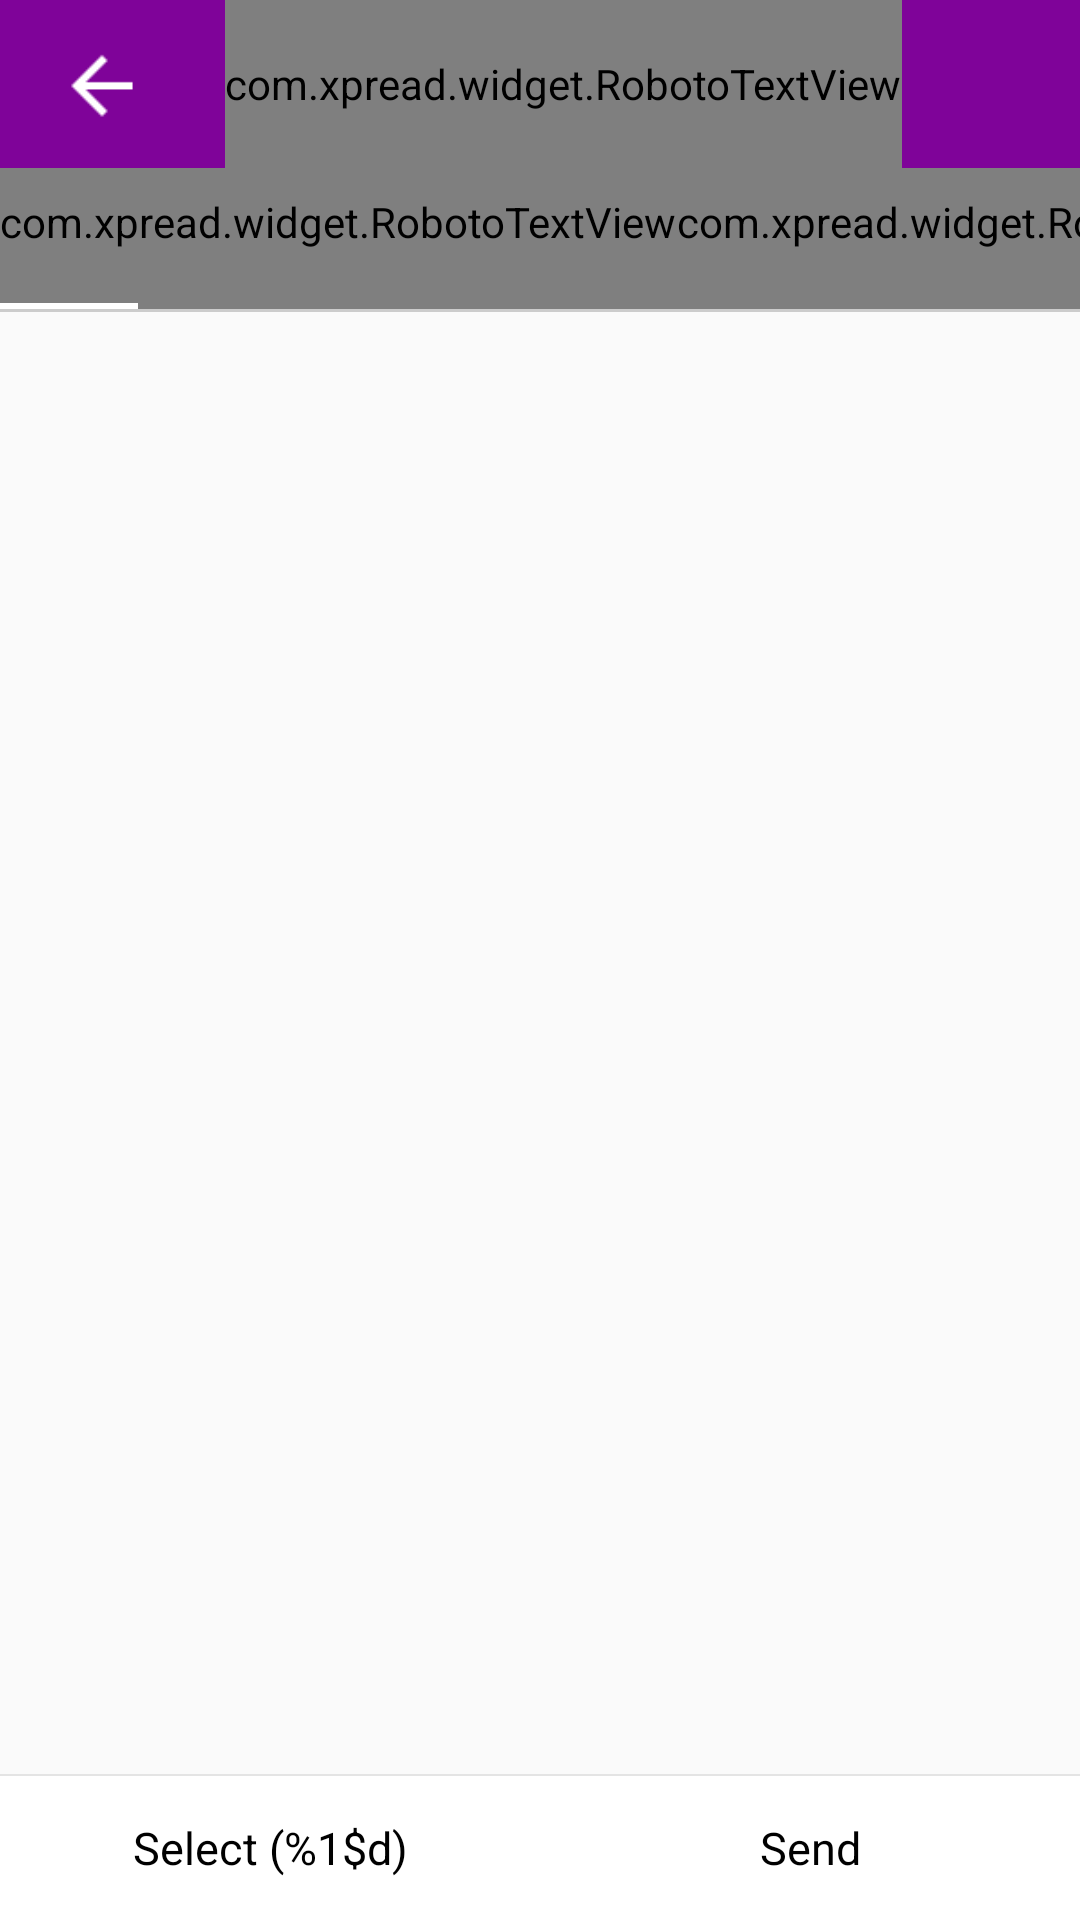

Where to tap for icons on this 1080x1920 app screen, as (x=x, y=y):
back: (x=102, y=86)
